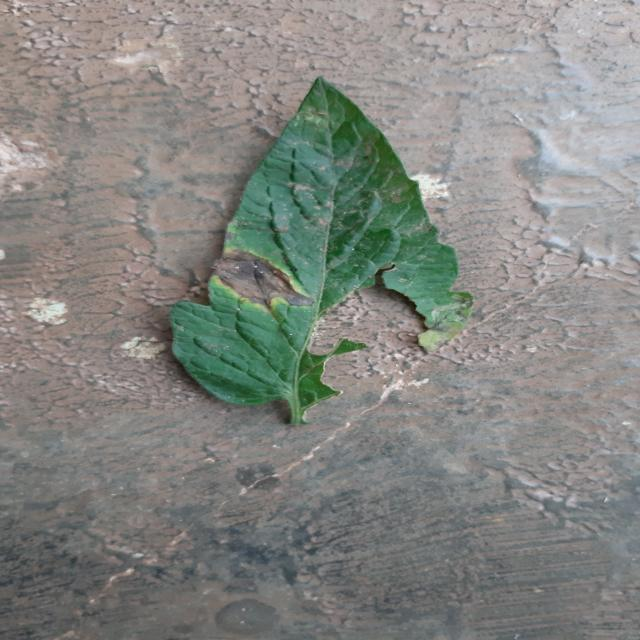disease in leaf: (382, 204, 471, 349), (216, 248, 327, 315)
tomato: (171, 78, 471, 424)
